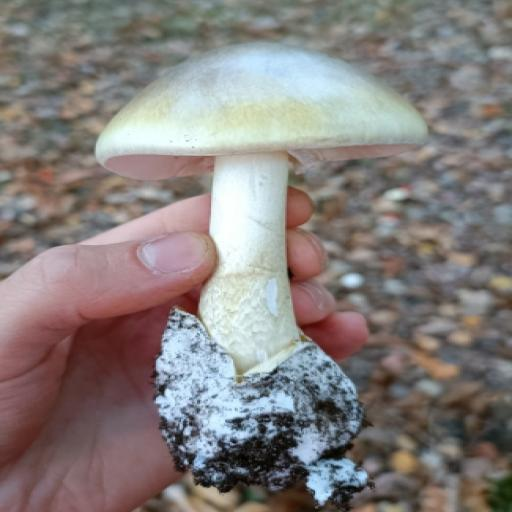Death Cap: (39, 15, 440, 506)
